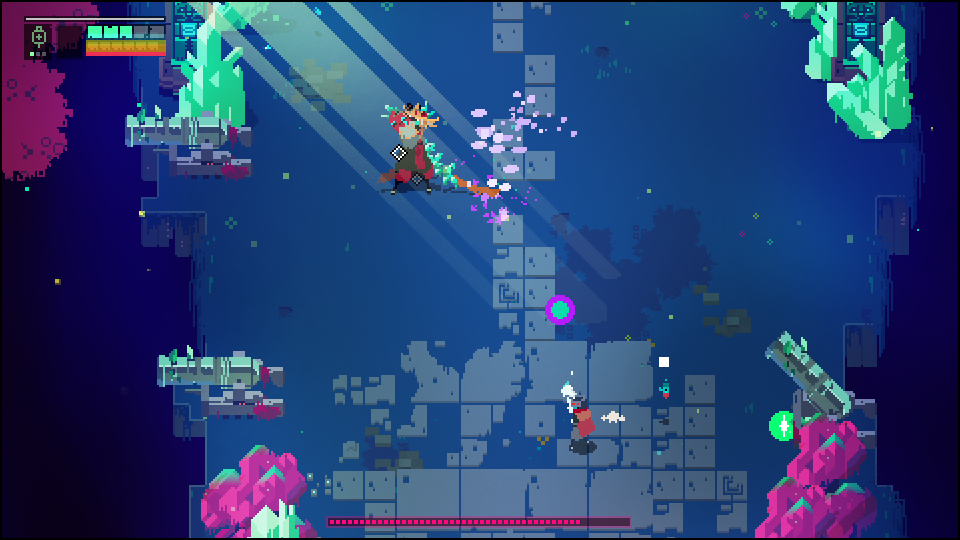hanged_man: (376, 98, 465, 196)
hanged_shot: (768, 408, 800, 442), (543, 293, 576, 325)
player: (561, 392, 599, 454)
